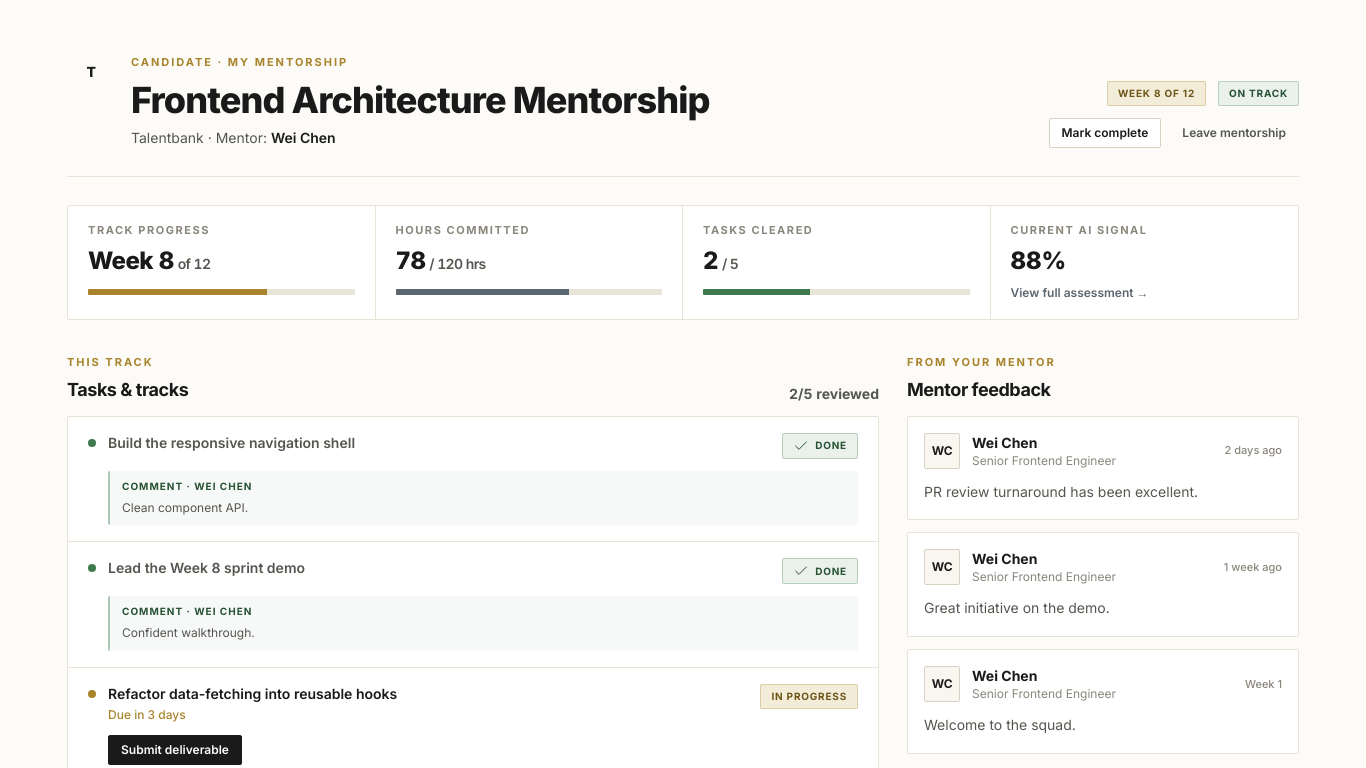
Test case: StudentMentorship › submits a deliverable via the mutation and shows a banner
This screenshot has width=1366, height=768.
Click the button "Submit deliverable" at (175, 750), box [108, 735, 242, 765]
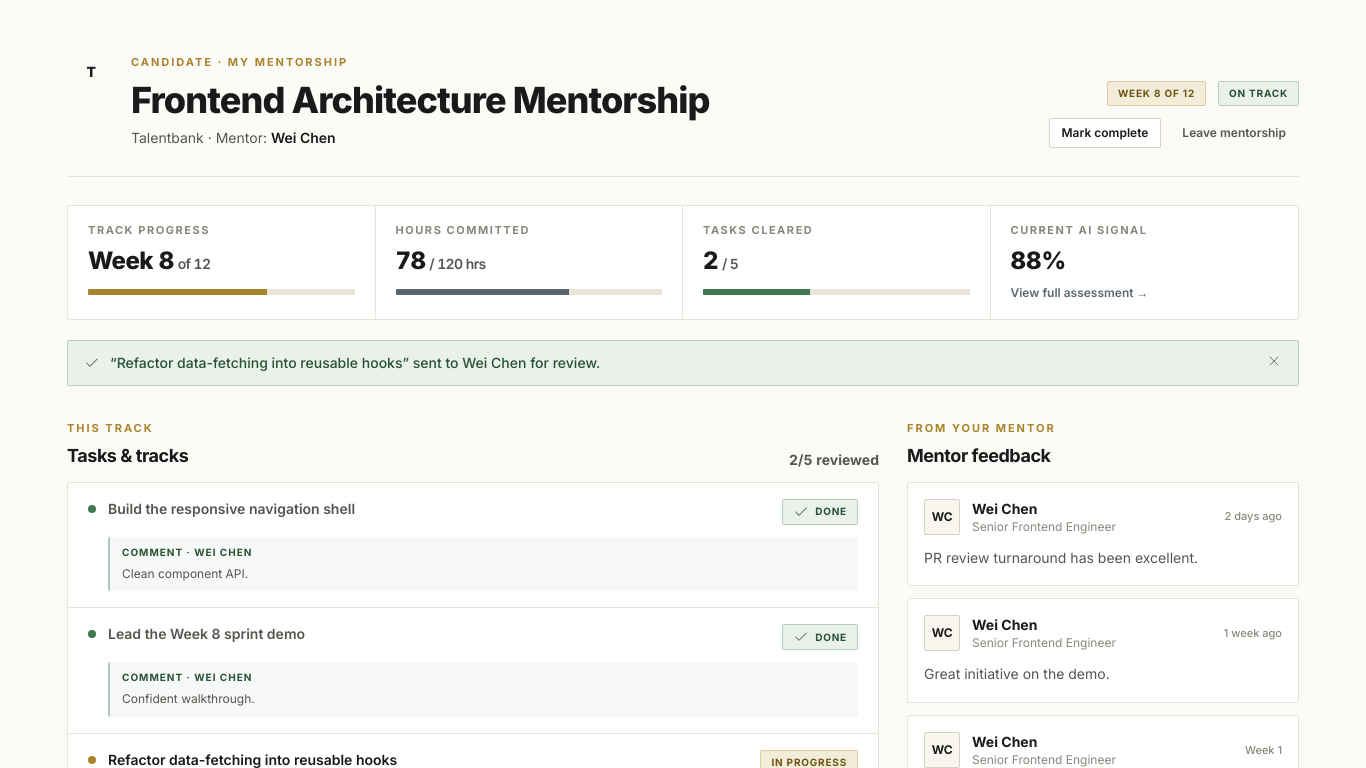
expect the message shows "sent to Wei Chen for review": met, box [110, 354, 600, 370]
